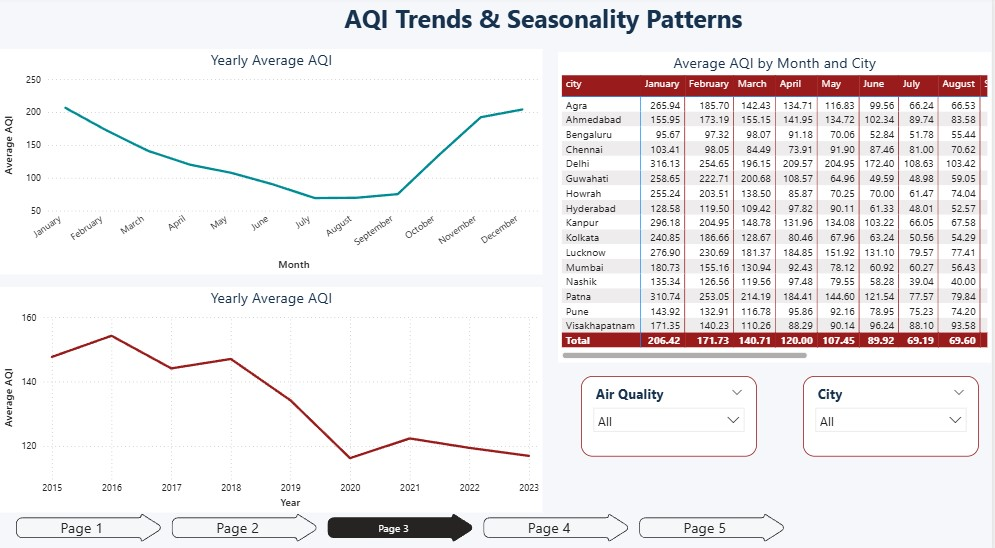

This screenshot's page, from the dashboard's own definition file:
{"tool":"powerbi","page":{"name":"Page 3","canvas":[1280,720],"ordinal":2},"visuals":[{"type":"textbox","box":[398.1,0,604.7,70.6],"z":0},{"type":"lineChart","title":"Yearly Average AQI","fields":{"Category":["finalized_data.date.Variation.Date Hierarchy.Year"],"Y":["finalized_data.Average AQI"]},"box":[0,374.6,700.5,290.6],"z":1000},{"type":"pivotTable","title":"Average AQI by Month and City","fields":{"Values":["finalized_data.Average AQI"],"Rows":["finalized_data.city"],"Columns":["finalized_data.date.Variation.Date Hierarchy.Month"]},"box":[720.6,70.6,559.4,401.5],"z":2000},{"type":"lineChart","title":"Yearly Average AQI","fields":{"Y":["finalized_data.Average AQI"],"Category":["finalized_data.date.Variation.Date Hierarchy.Month"]},"box":[0,67.2,700.5,290.6],"z":3000},{"type":"pageNavigator","box":[20.2,665.2,999.5,38.6],"z":4000},{"type":"slicer","fields":{"Values":["finalized_data.city"]},"box":[1036.4,488.8,226.8,104.1],"z":5000},{"type":"slicer","fields":{"Values":["finalized_data.Air Quality"]},"box":[749.2,488.8,226.8,104.1],"z":6000}]}

Visuals, with their boxes in screenshot pixels (x1, y1, x2, y2), scaled from the page's 1280x720 canvas onto the 995x548 screenshot:
textbox: box=[309, 0, 780, 54]
"Yearly Average AQI" lineChart: box=[0, 285, 545, 506]
"Average AQI by Month and City" pivotTable: box=[560, 54, 994, 359]
"Yearly Average AQI" lineChart: box=[0, 51, 545, 272]
pageNavigator: box=[16, 506, 793, 536]
slicer - finalized_data.city: box=[806, 372, 982, 451]
slicer - finalized_data.Air Quality: box=[582, 372, 759, 451]
